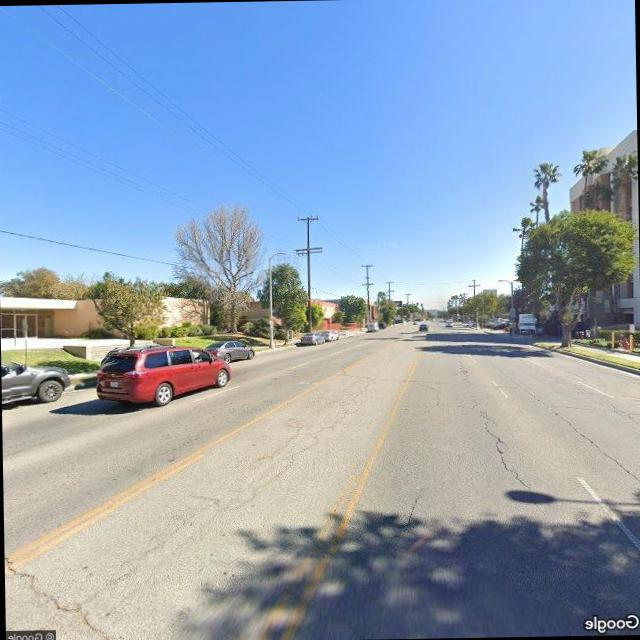crack: (91, 376, 378, 590), (515, 374, 637, 484), (457, 356, 531, 494), (5, 562, 119, 640), (536, 402, 640, 424)
